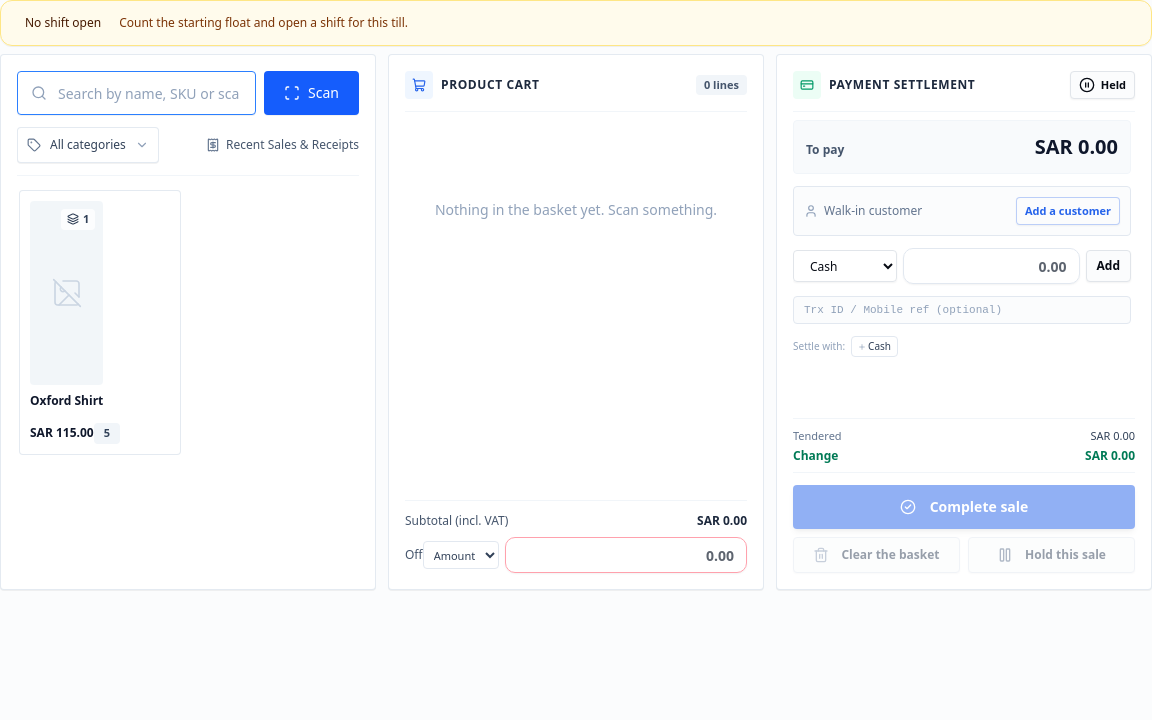
Test case: the basket › adds what the cashier picked and shows the server’s total
In the field named "Scan or search": [137, 93] box 17,71 -> 256,115, type "oxford"
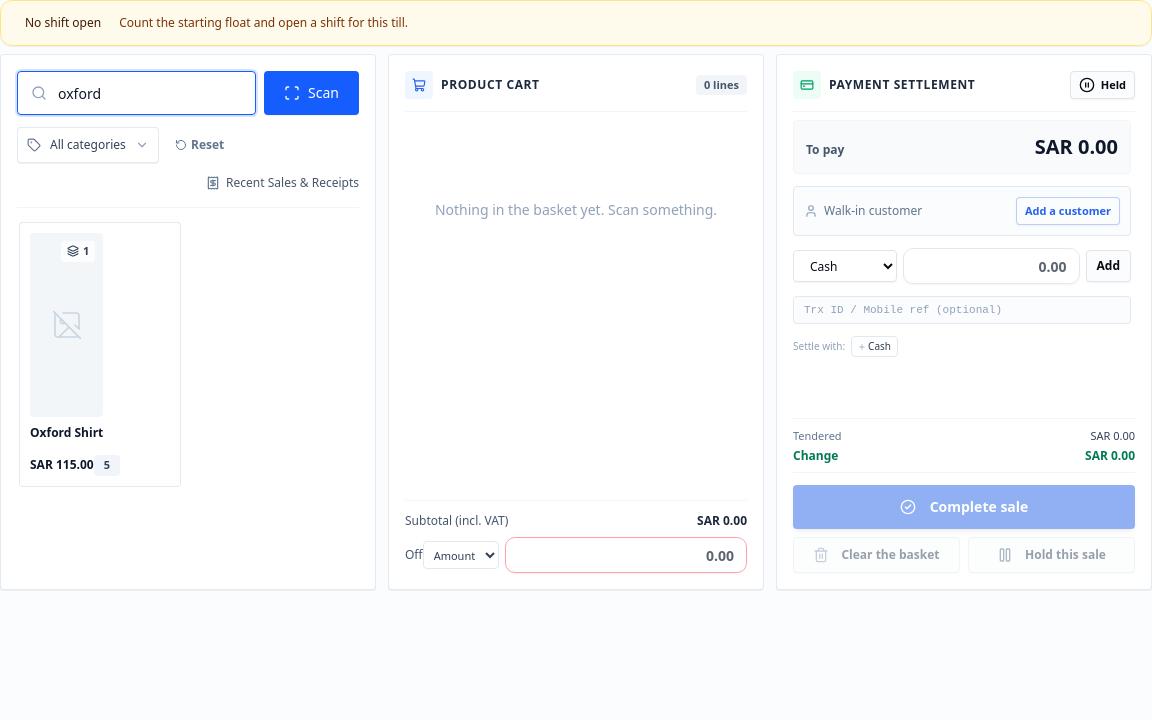
Click the button "1 Oxford Shirt SAR 115.00 5": [100, 354] box 19,222 -> 181,486
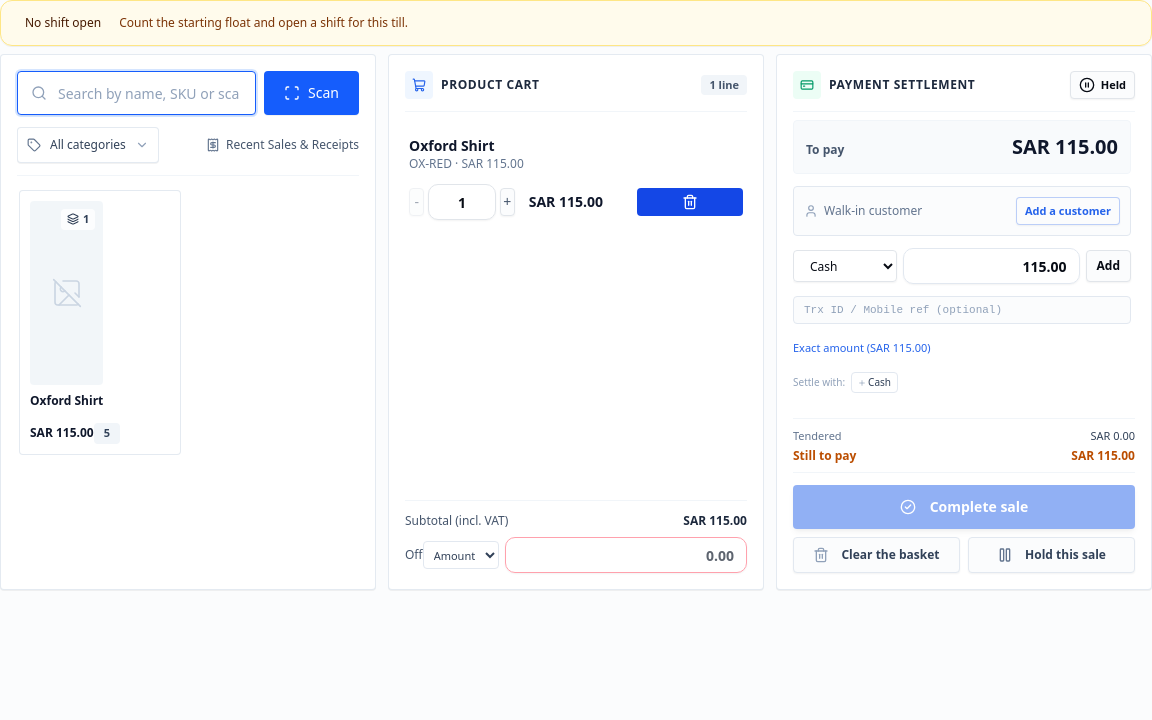
Now the field named "Quantity of Oxford Shirt" holds "1", box 428,184 -> 496,220
Now the text named "To pay" reads "SAR 115.00", box 1012,133 -> 1118,160
